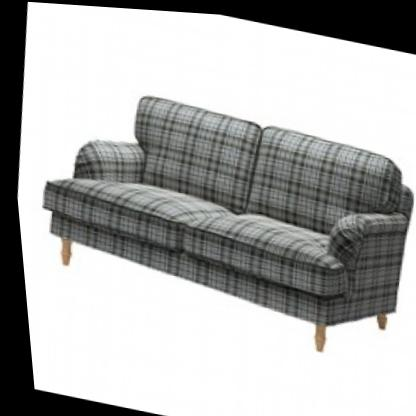Sofa: (5, 25, 416, 374)
